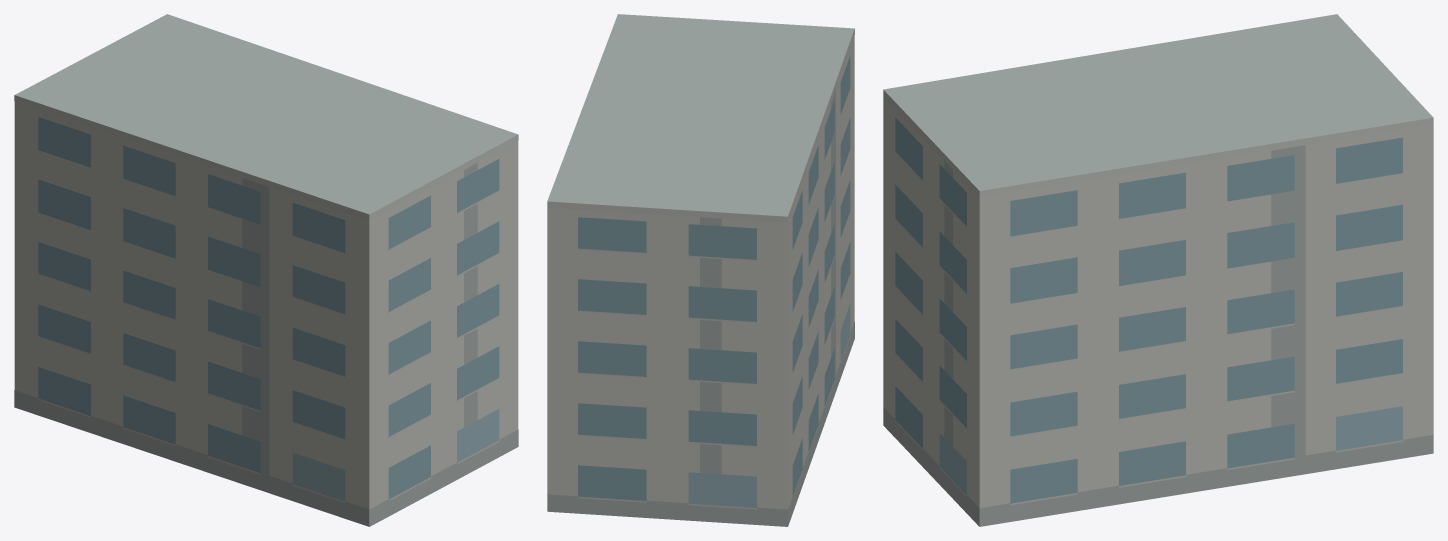
File: survey-upis-32988212.glb
The picture shows the model from 3 angles, left to right: view 1: azimuth 30°, elevation 25°; view 2: azimuth 150°, elevation 25°; view 3: azimuth 270°, elevation 25°; orthographic projection. The views are drawn at different scales.
Visible parts, largest first — view 1: survey-upis-32988212.tmp; view 2: survey-upis-32988212.tmp; view 3: survey-upis-32988212.tmp.
Part boxes in pixels (<box>): survey-upis-32988212.tmp: <box>14,14,518,526</box>; survey-upis-32988212.tmp: <box>547,14,854,526</box>; survey-upis-32988212.tmp: <box>883,14,1433,526</box>.
Bounding box in the file's own units: 13.69 × 12.1 × 17.98.
